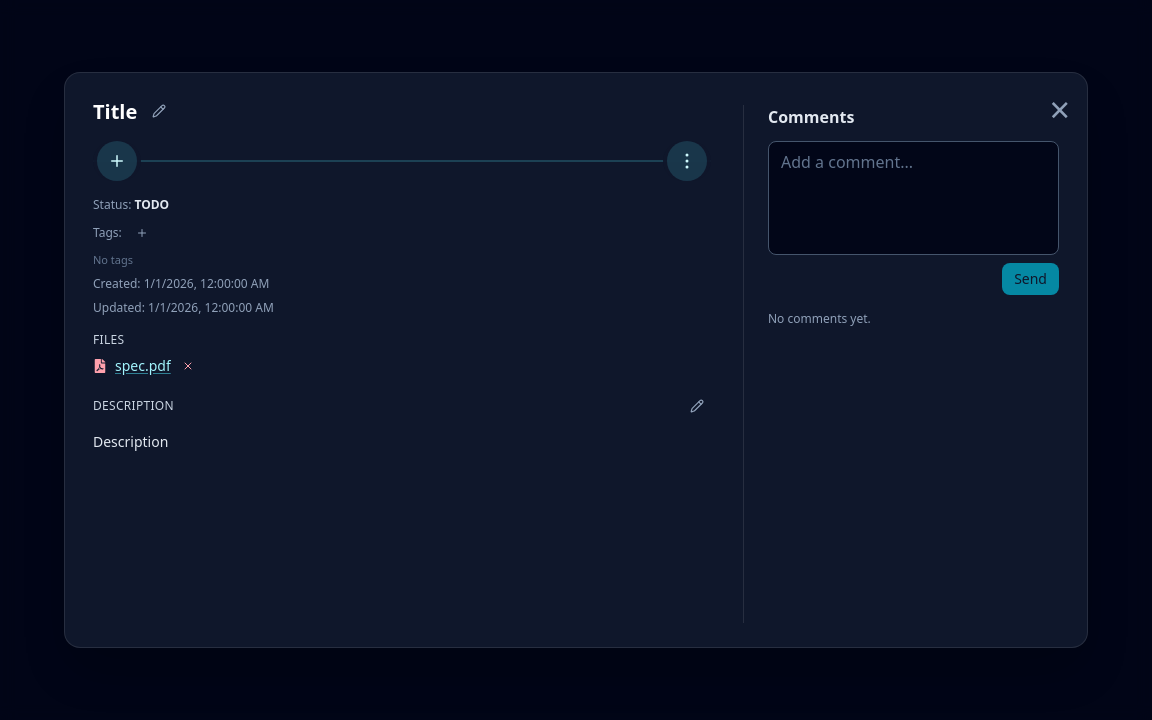
Test: TodoModal › shows error when deleting file metadata fails
Click the button with test id "delete-file-file-1": (188, 366) x1=181 y1=359 x2=195 y2=373
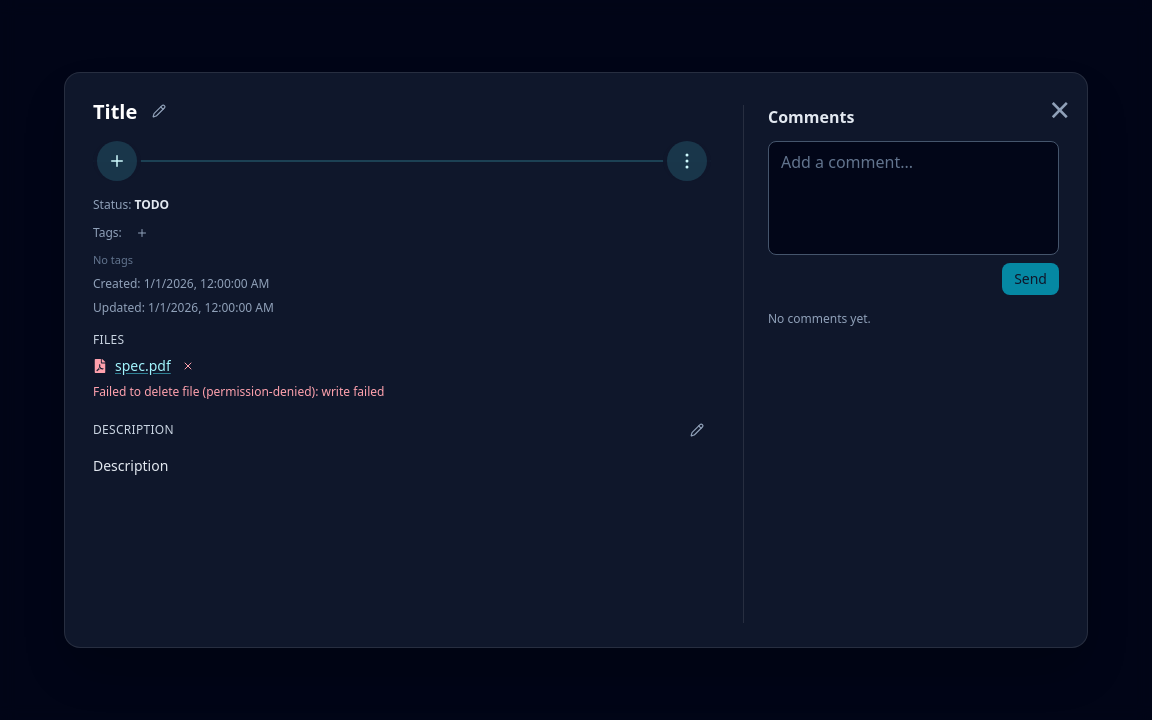
expect the text "Failed to delete file (permission-denied): write failed" is shown: met, box x1=93 y1=383 x2=384 y2=400
